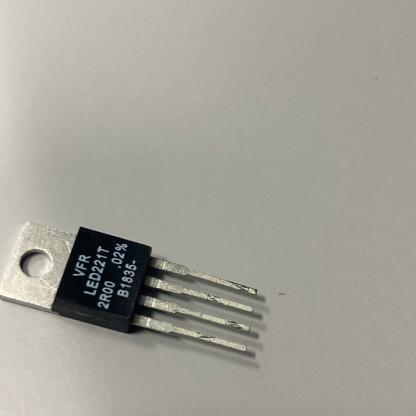SP0000012: (0, 186, 295, 394)
